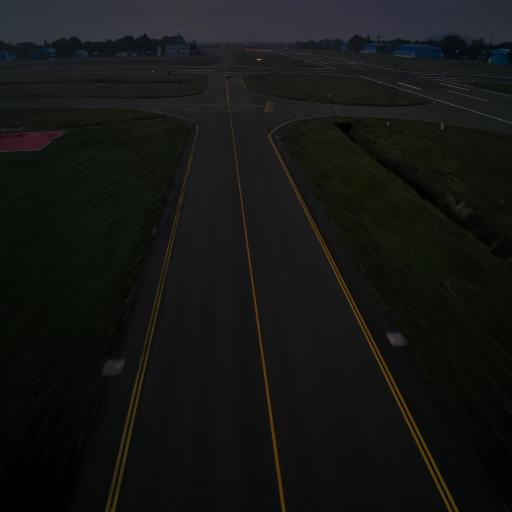on: (115, 356, 121, 366), (391, 330, 396, 339)
